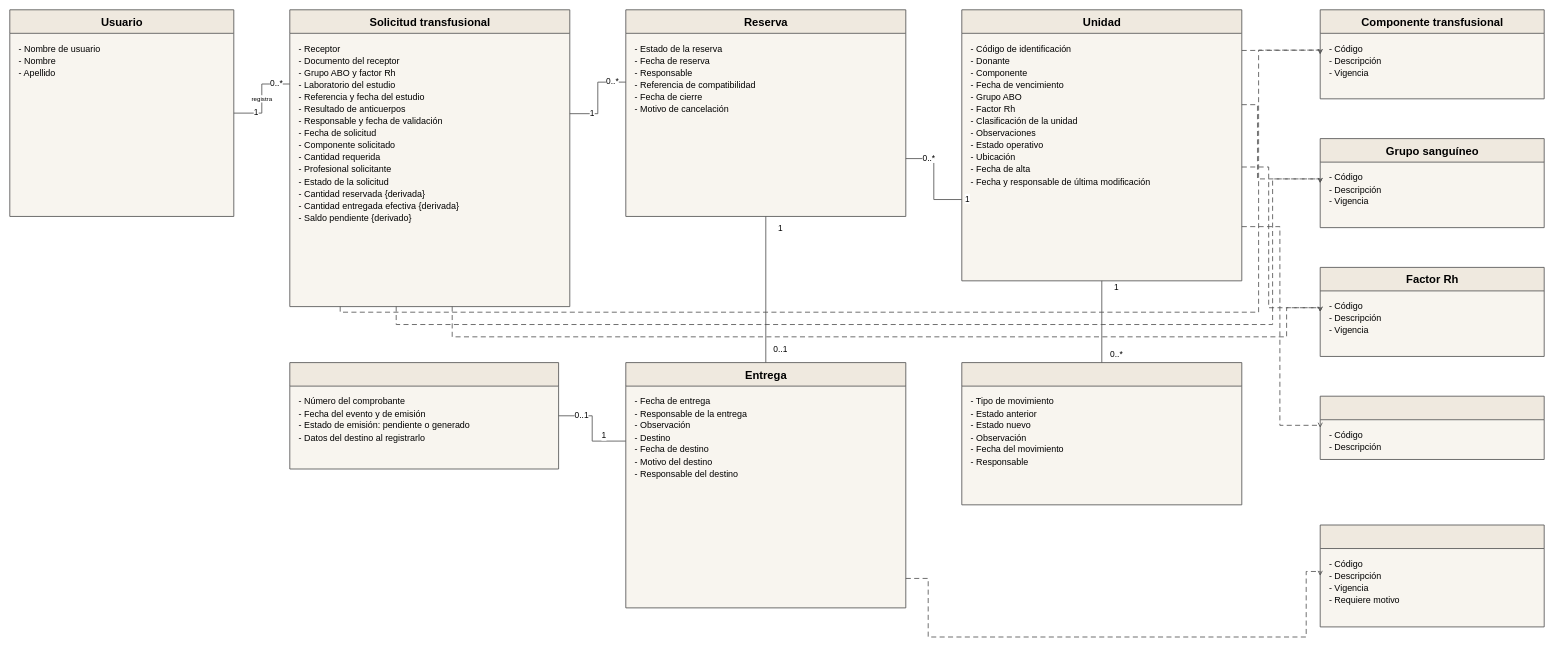
This 1555x652 diagram has some shape labels left out. Each missing label, with the box of its shape:
Comprobante de destino: (289, 362, 559, 469)
Destino de entrega: (1320, 524, 1544, 627)
Estado de unidad: (1320, 396, 1544, 460)
Movimiento de unidad: (961, 362, 1242, 505)
